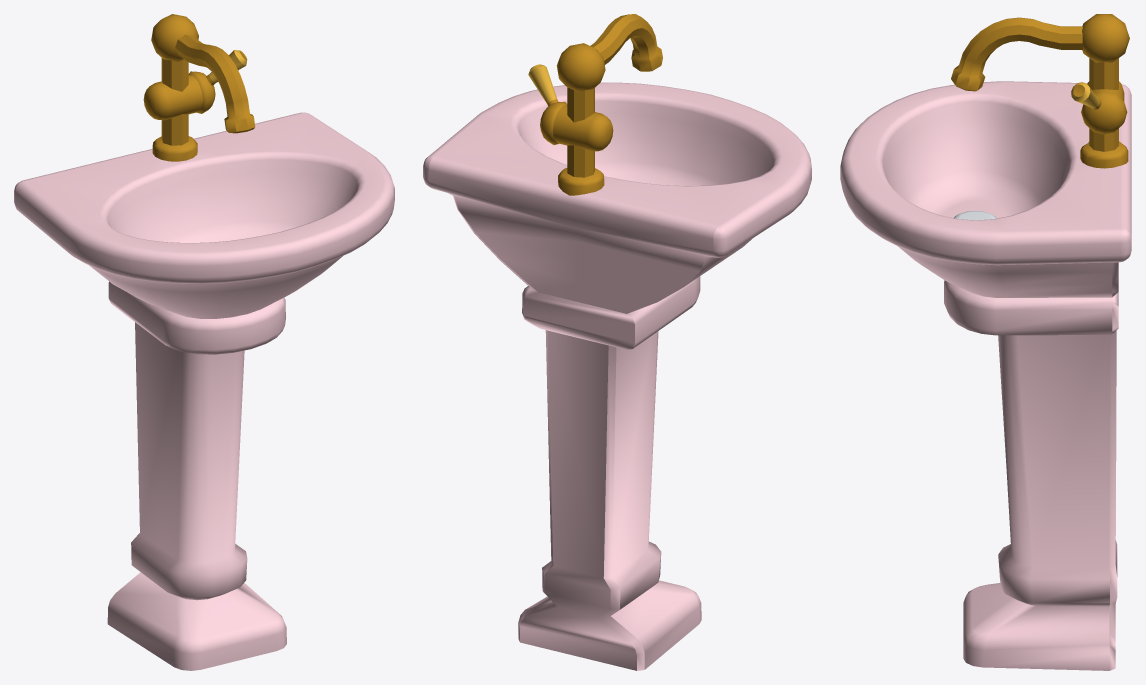
Rendered from pia_coluna_rosa_pacote.glb.
3 renders of one model, left to right at view 1: azimuth 30°, elevation 25°; view 2: azimuth 150°, elevation 25°; view 3: azimuth 270°, elevation 25°, orthographic. The views are drawn at different scales.
Visible parts, largest first — view 1: pia_coluna_rosa_pacote; view 2: pia_coluna_rosa_pacote; view 3: pia_coluna_rosa_pacote.
Boxes of the visible parts, <box> form: pia_coluna_rosa_pacote: <box>14,14,394,670</box>; pia_coluna_rosa_pacote: <box>423,14,811,670</box>; pia_coluna_rosa_pacote: <box>840,14,1131,670</box>.
Bounding box in the file's own units: 0.602 × 1.11 × 0.4668.
Materials: 1 (1 with a texture image).
